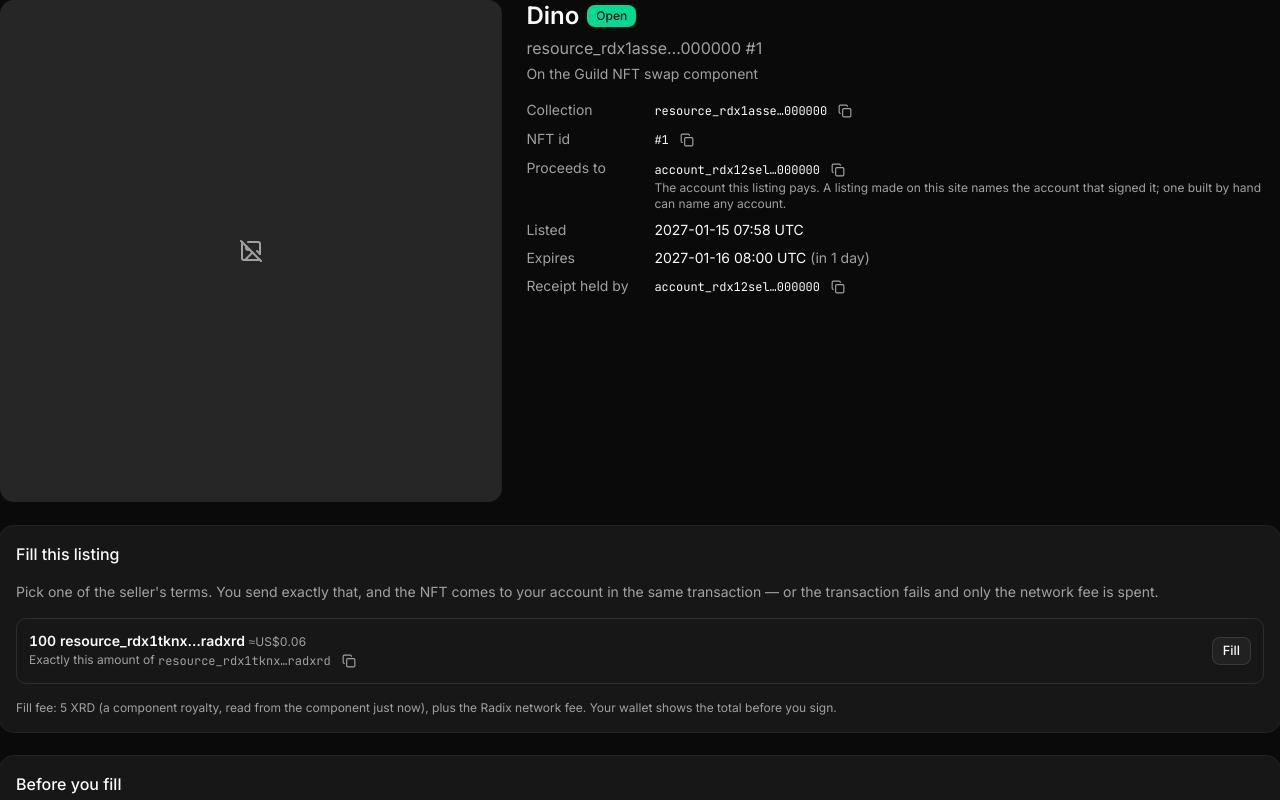
Test case: ≈US$ beside an XRD ask › never puts a dollar figure into the sentence the buyer confirms
Click the button "Fill" at (1231, 651), box [1212,637,1251,665]
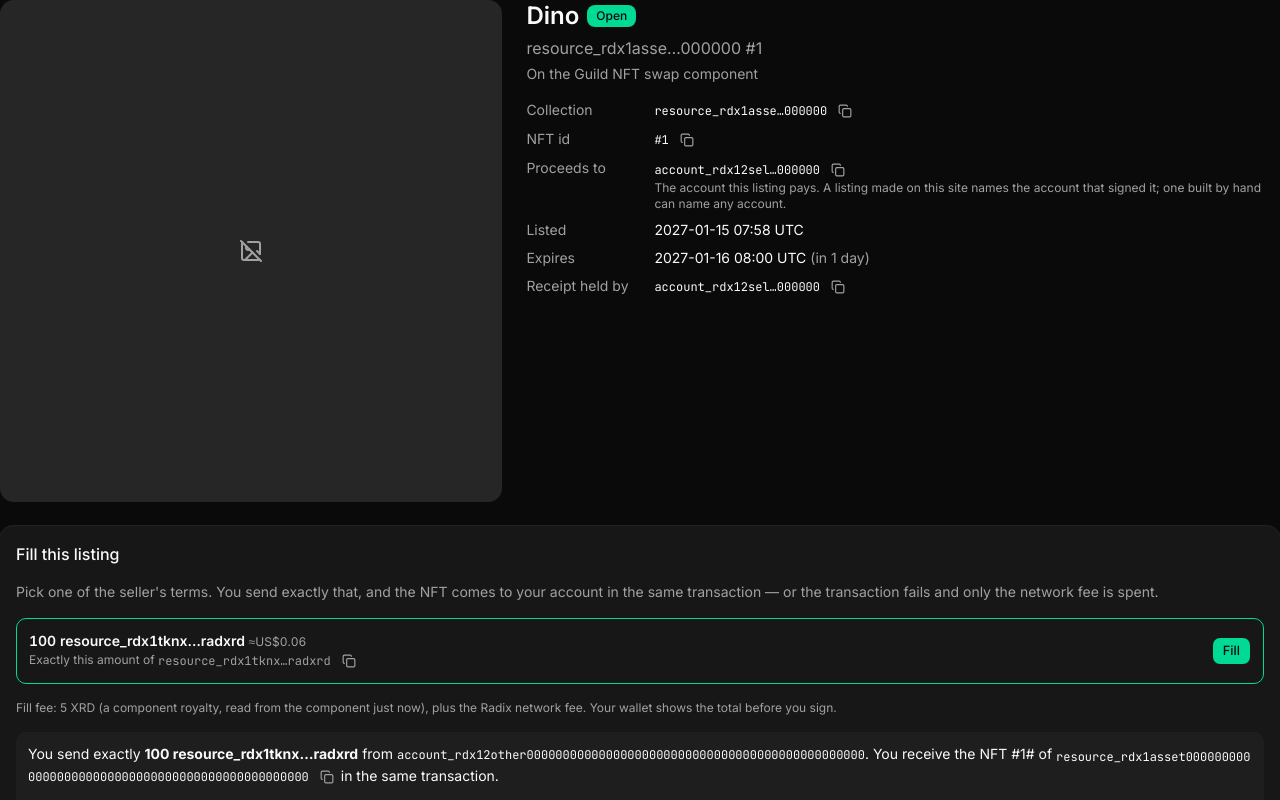
Expected: the text "You receive the NFT" does not show "US$"
Expected: the text "You receive the NFT" shows "You send exactly", [28,745,145,762]
